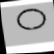no answer: (9, 4, 51, 34)
